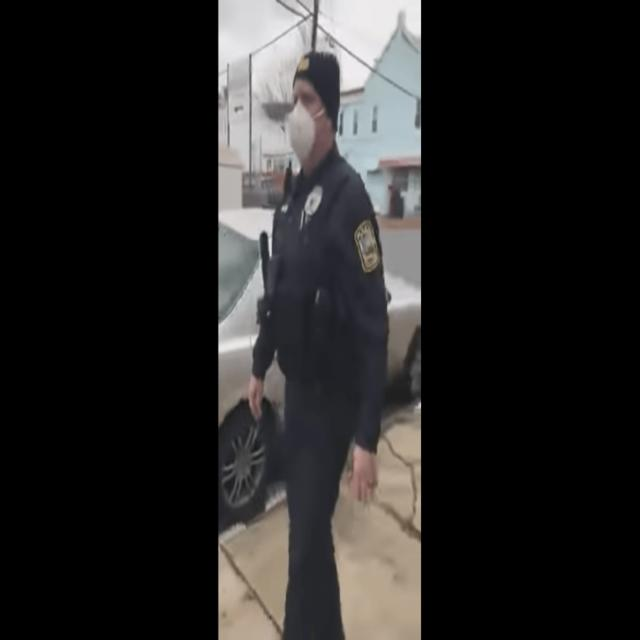police: (238, 34, 384, 640)
